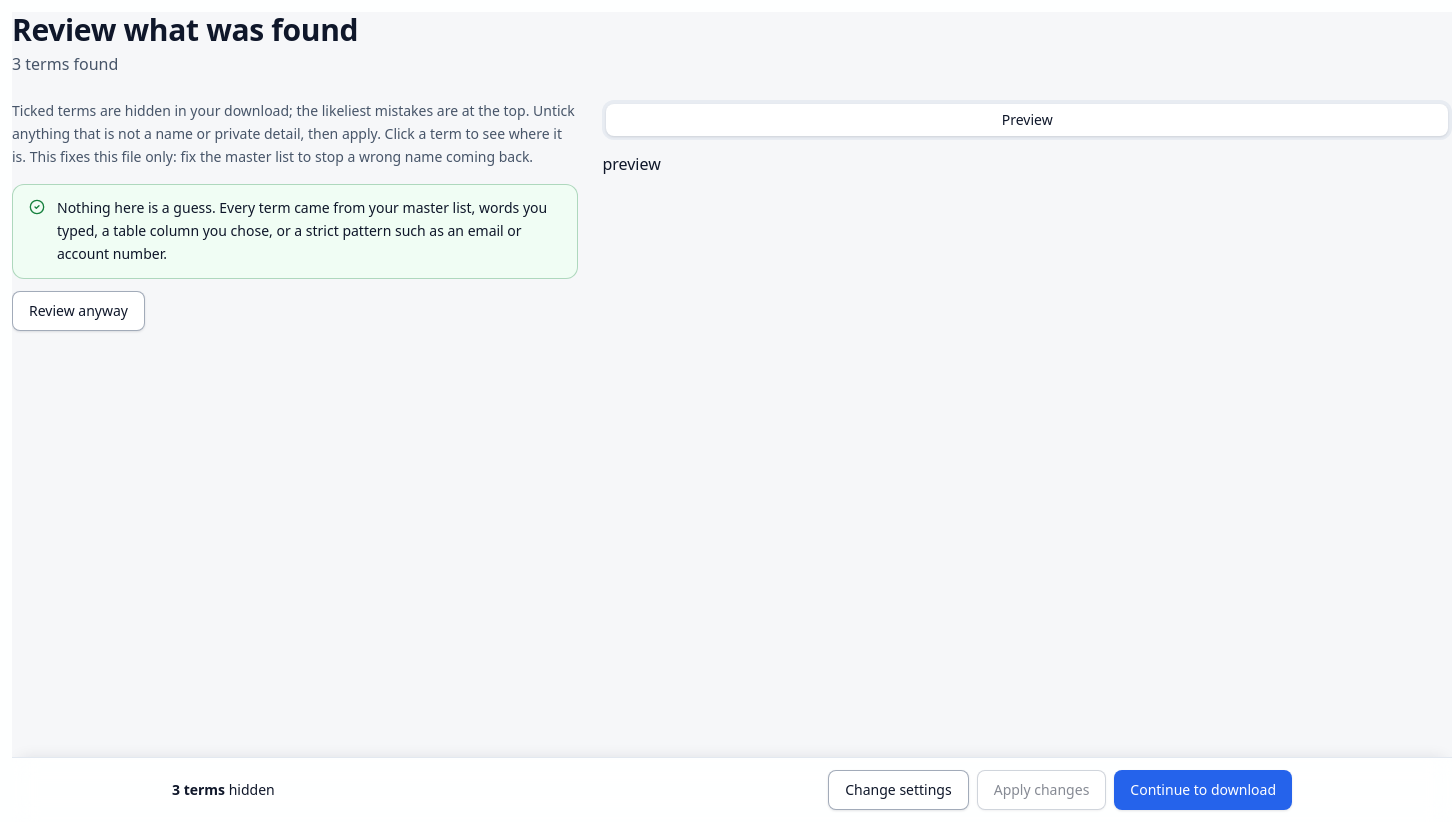
it: review › folds a clean run behind Review anyway
expect the text "Nothing here is a guess" is shown: met, box x1=57 y1=198 x2=547 y2=263
Step 1. Click the button "Review anyway" → [78, 310], box x1=12 y1=290 x2=145 y2=330
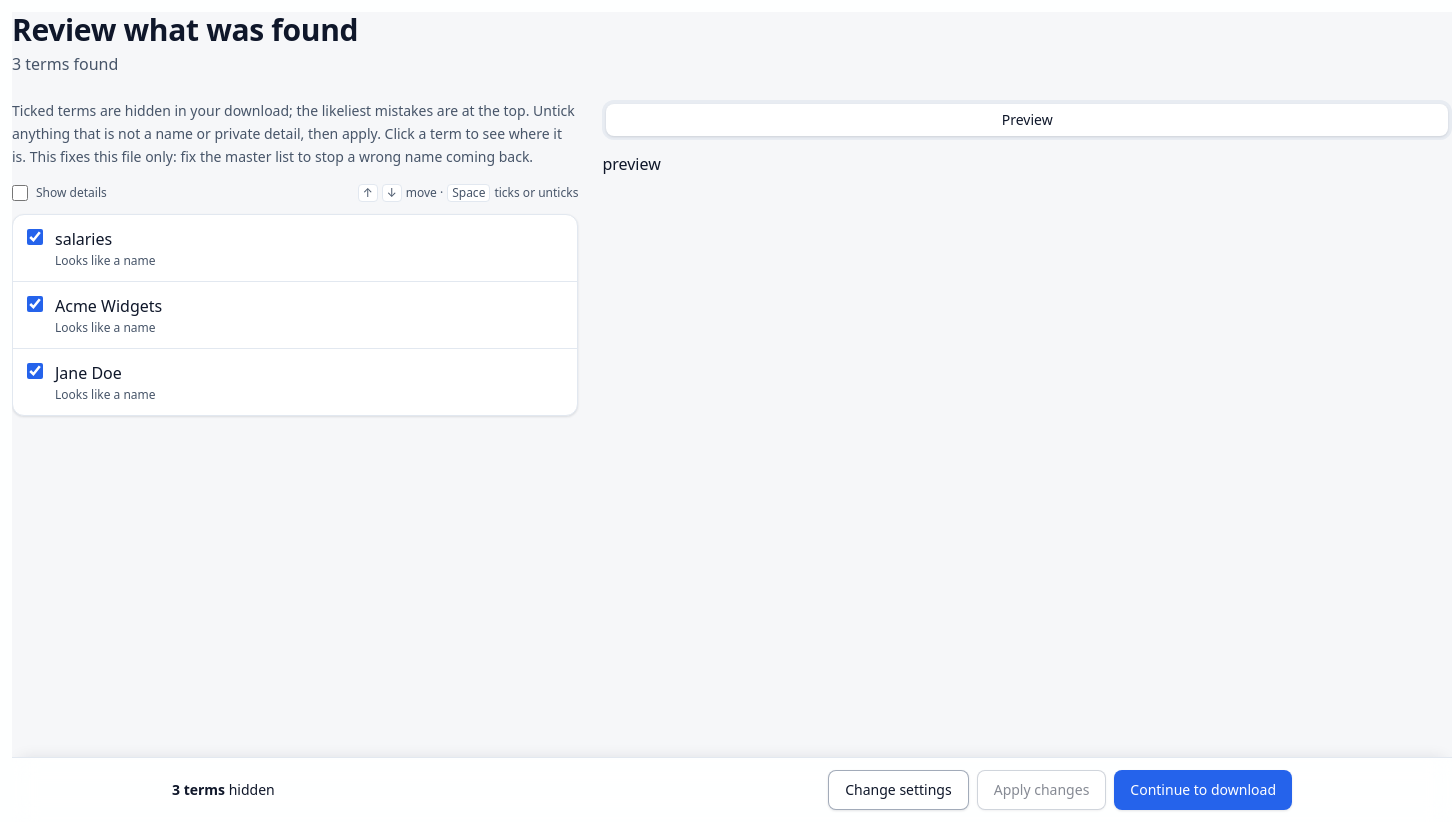
expect the list named "Detected terms" is shown: met, box x1=12 y1=214 x2=578 y2=416
